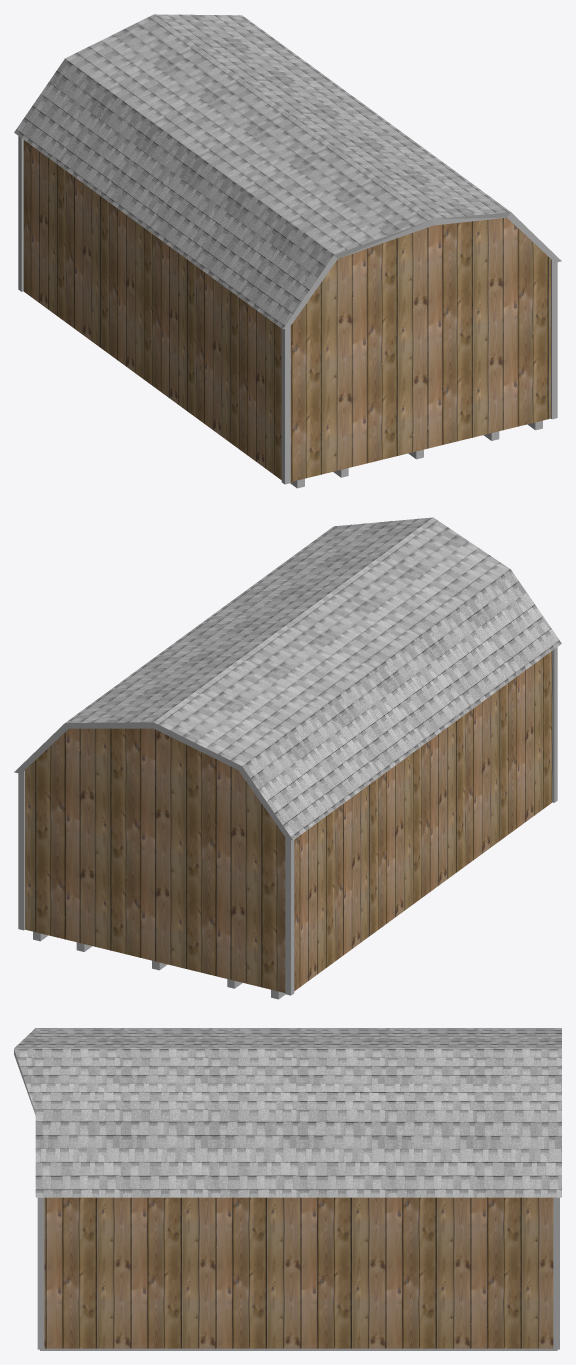
File: High Wall Barns_12x22.obj
3 renders of one model, top to bottom at view 1: azimuth 30°, elevation 25°; view 2: azimuth 150°, elevation 25°; view 3: azimuth 270°, elevation 25°, orthographic. The views are drawn at different scales.
Parts seen in each view (by area): view 1: Shed, Roof, Trim, Sides; view 2: Shed, Roof, Trim, Sides; view 3: Roof, Shed, Trim, Floor.
Boxes of the visible parts, box(x1,y1,x2,y2) form: Shed: box(23, 140, 554, 481); Roof: box(14, 14, 510, 329); Trim: box(18, 136, 557, 484); Sides: box(283, 212, 561, 329); Shed: box(23, 651, 552, 992); Roof: box(65, 517, 561, 840); Trim: box(18, 647, 557, 995); Sides: box(14, 722, 292, 840); Roof: box(14, 1028, 561, 1197); Shed: box(44, 1197, 553, 1348); Trim: box(37, 1197, 559, 1349); Floor: box(40, 1348, 557, 1350).
Size of the model in its own units: 3.72 by 3.17 by 6.45.
